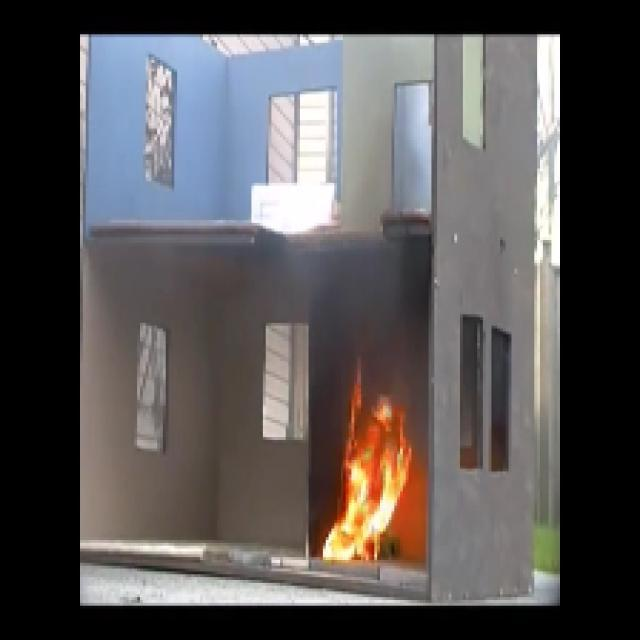Fire: (334, 416, 406, 564)
Smoke: (317, 242, 401, 340)
